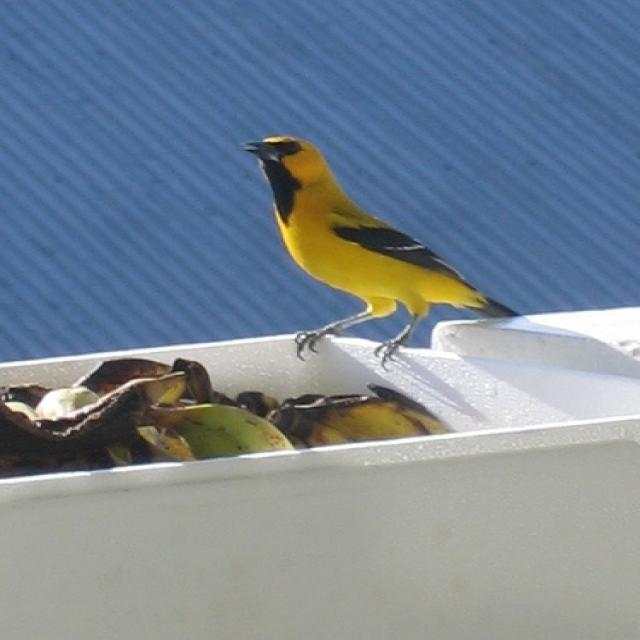bird: (239, 132, 519, 362)
